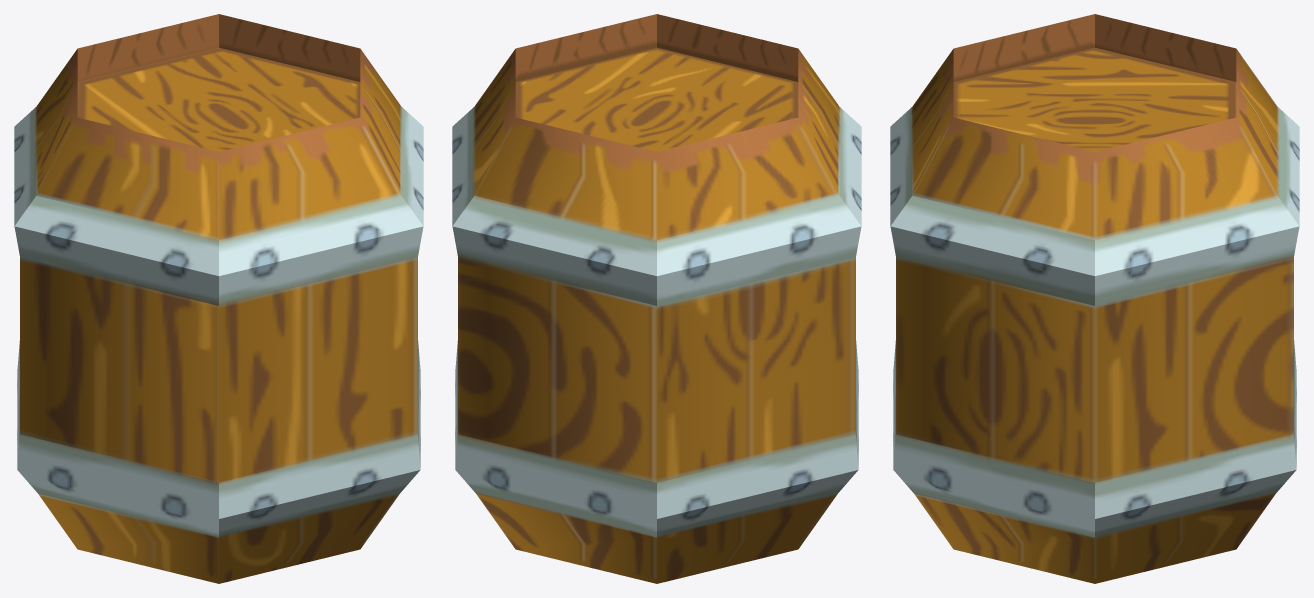
File: barril01.FBX
3 views of the same model, side by side, from view 1: azimuth 30°, elevation 25°; view 2: azimuth 150°, elevation 25°; view 3: azimuth 270°, elevation 25° (orthographic).
Visible parts, largest first — view 1: barriil01; view 2: barriil01; view 3: barriil01.
Boxes of the visible parts, bbox=[...] form: barriil01: bbox=[14, 14, 423, 583]; barriil01: bbox=[452, 14, 861, 583]; barriil01: bbox=[890, 14, 1299, 583].
Size of the model in its own units: 56.03 by 56.54 by 48.52.
